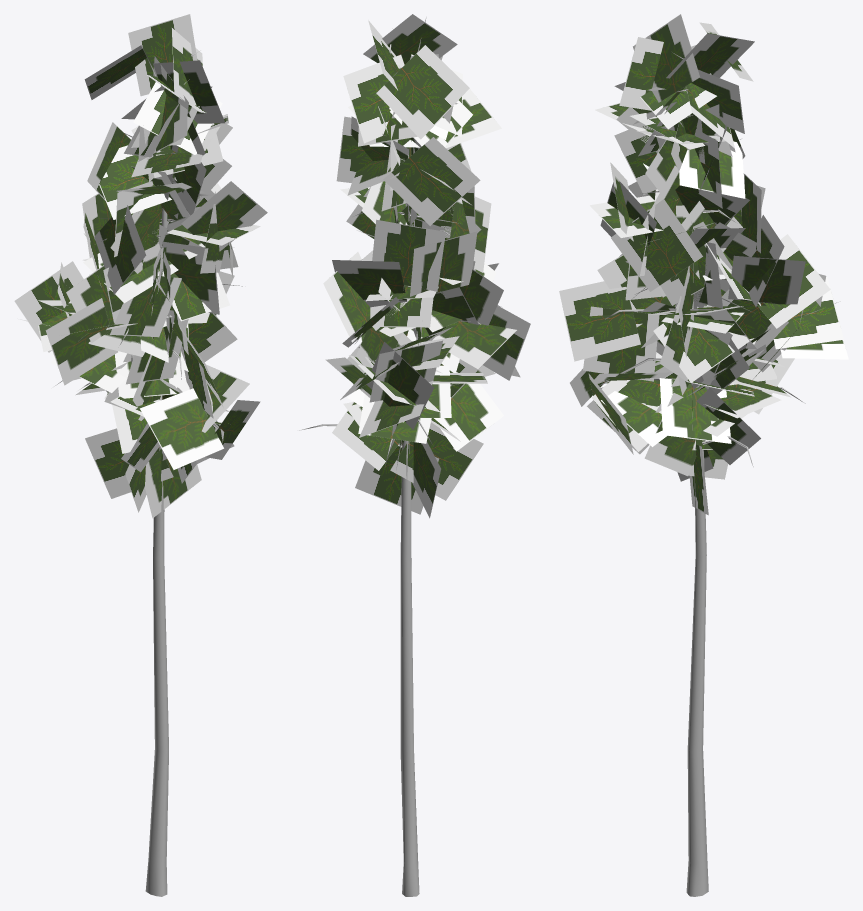
File: TallSpruceReduced_2 (1).fbx
3 views of the same model, side by side, from view 1: azimuth 30°, elevation 25°; view 2: azimuth 150°, elevation 25°; view 3: azimuth 270°, elevation 25° (orthographic).
Parts seen in each view (by area): view 1: Tall_Spruce_Reduced_LOD0; view 2: Tall_Spruce_Reduced_LOD0; view 3: Tall_Spruce_Reduced_LOD0.
Part boxes in pixels (left/top/right/bottom): Tall_Spruce_Reduced_LOD0: left=14, top=14, right=267, bottom=896; Tall_Spruce_Reduced_LOD0: left=299, top=14, right=530, bottom=896; Tall_Spruce_Reduced_LOD0: left=559, top=14, right=848, bottom=896.
Size of what is drawn, in the model's own units: 860 by 3535 by 1052.
